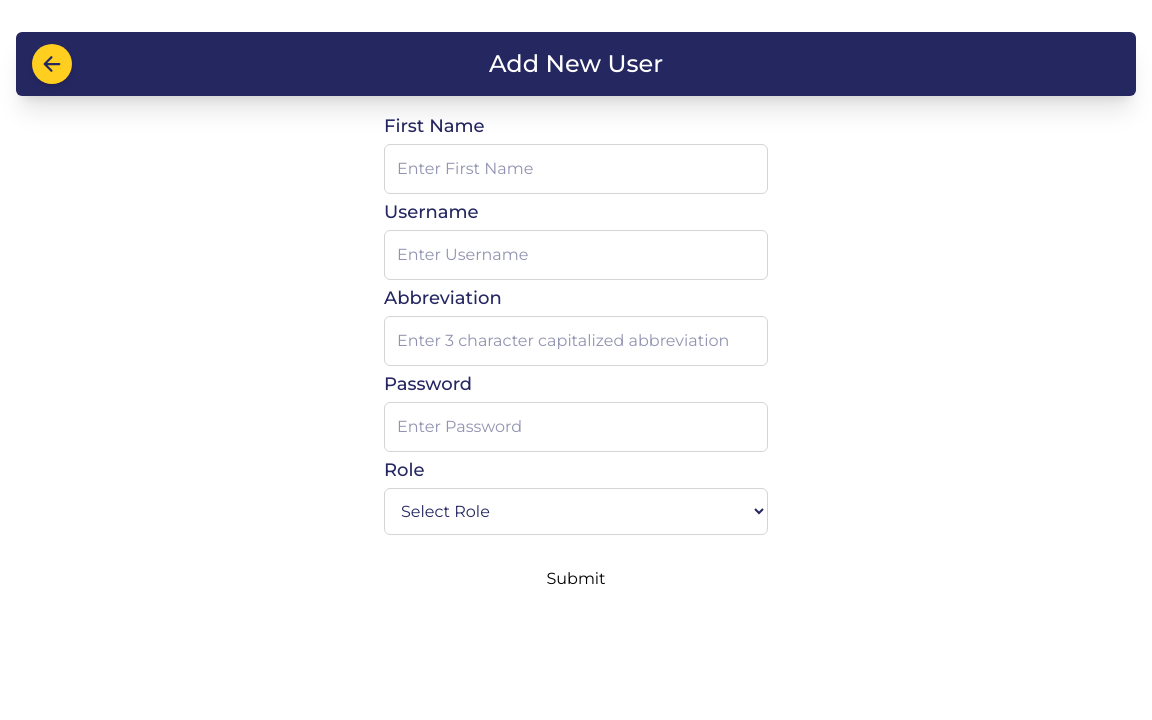
Scenario: AddUser page › rejects weak password per schema (password pattern)
This screenshot has width=1152, height=720.
Note: Fill out valid other fields
In the field labelled "First Name": {"x": 576, "y": 169} [384,144,768,194], type "Bob"
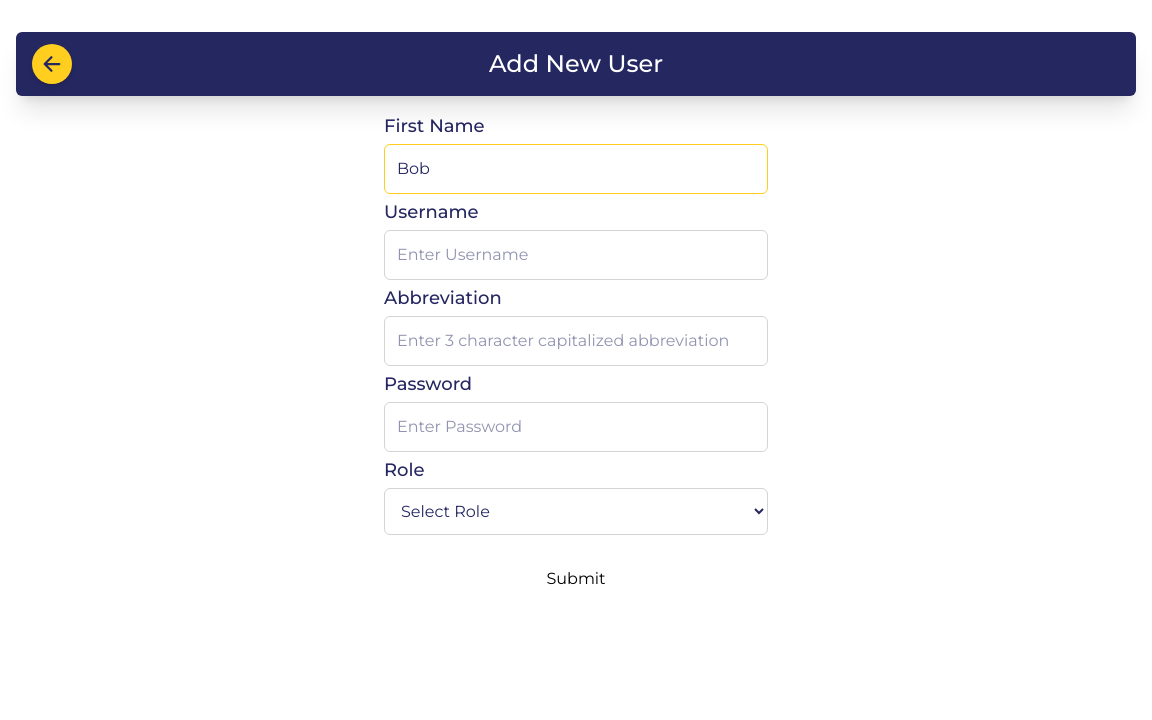
In the field labelled "Abbreviation": {"x": 576, "y": 341} [384,316,768,366], type "ABR"
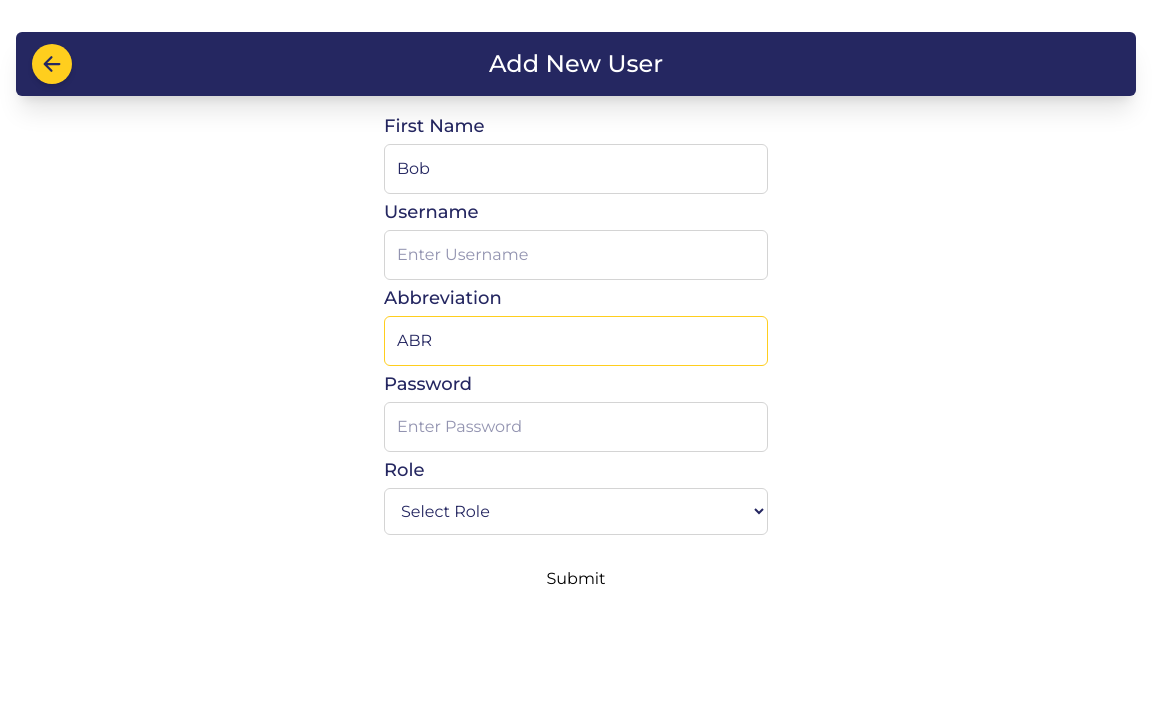
In the field labelled "Username": {"x": 576, "y": 255} [384,230,768,280], type "bobuser"
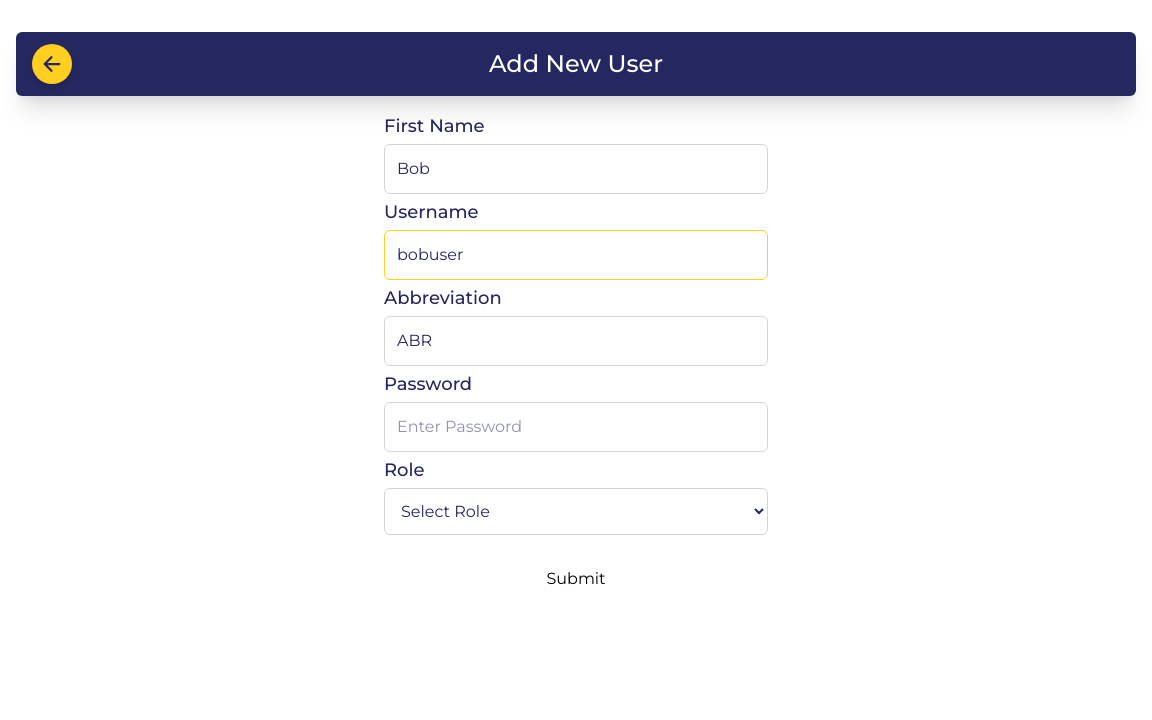
Note: Weak password: 'password' (lowercase only) - should be rejected by pattern-based validation on submit
In the field labelled "Password": {"x": 576, "y": 427} [384,402,768,452], type "password"
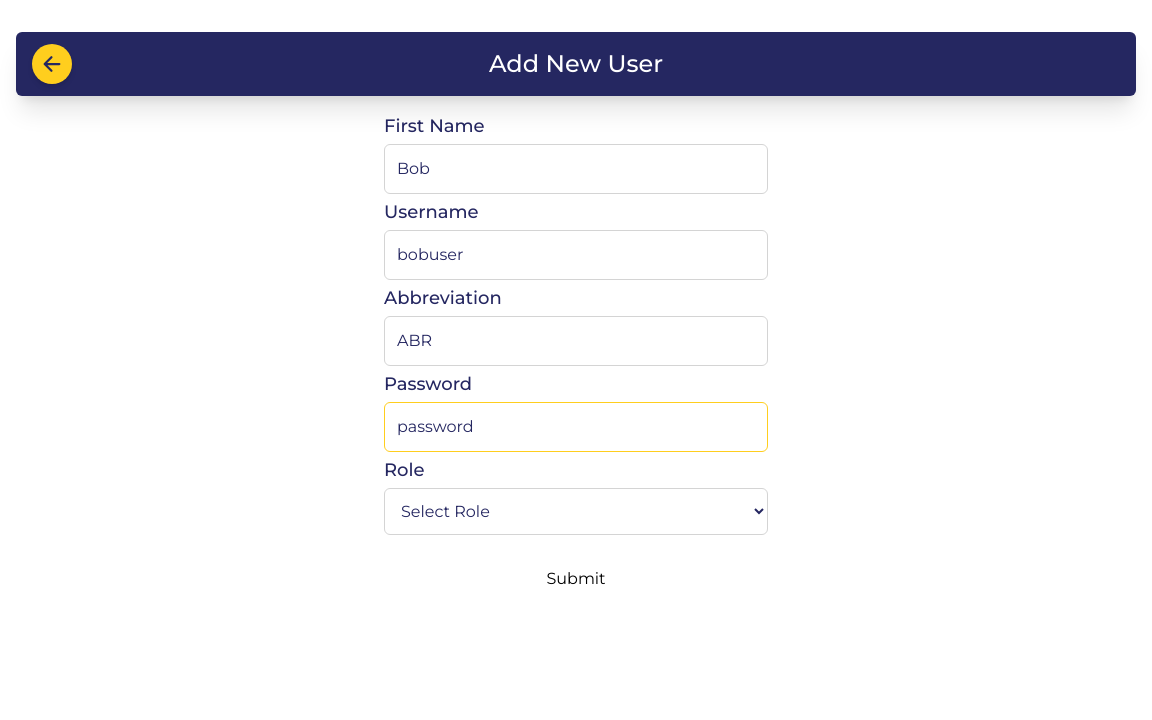
Select "Admin" in the dropdown labelled "Role": {"x": 576, "y": 512} [384,488,768,535]
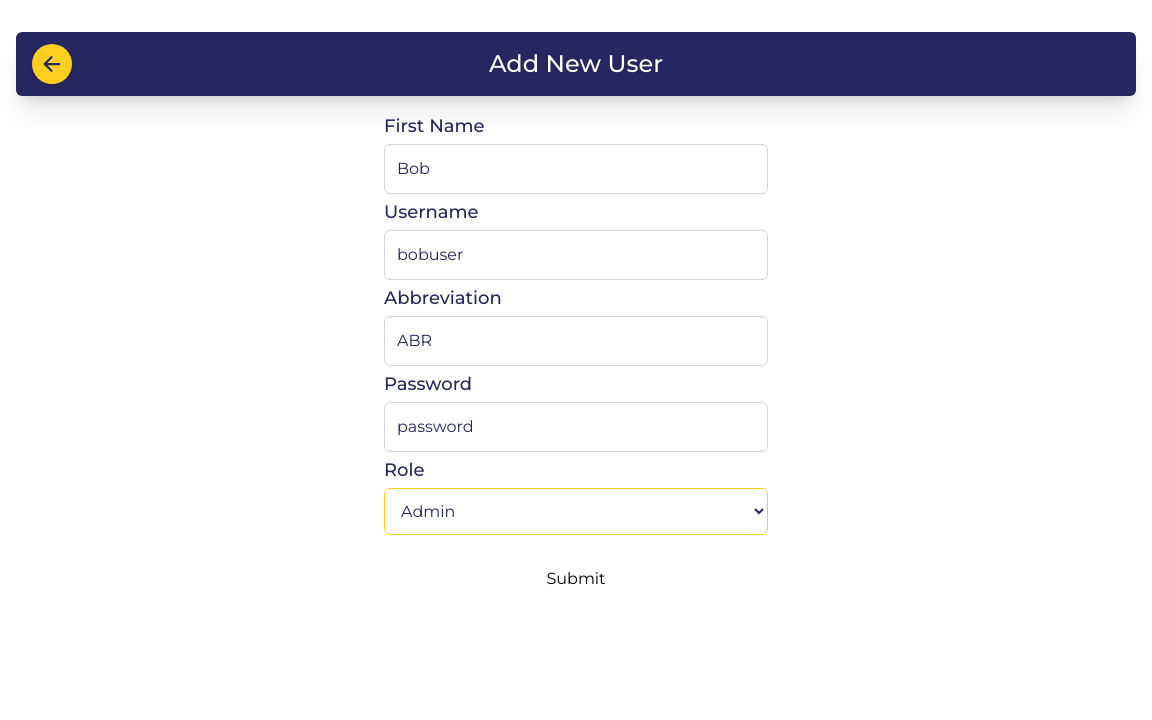
Click the button "Submit": {"x": 576, "y": 579} [546,567,606,591]
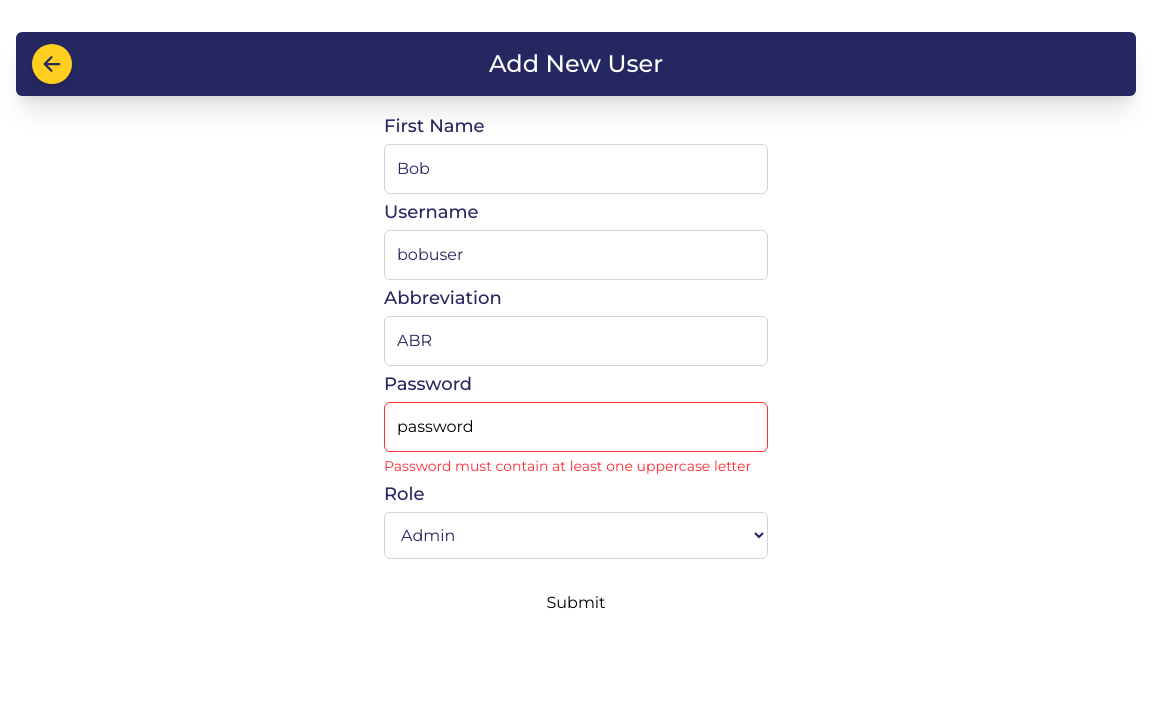
Check: the text "Password must contain at least one uppercase letter" is shown, box [384,456,768,476]
